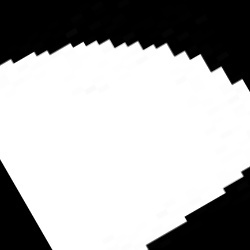spot: (1, 41, 248, 247)
